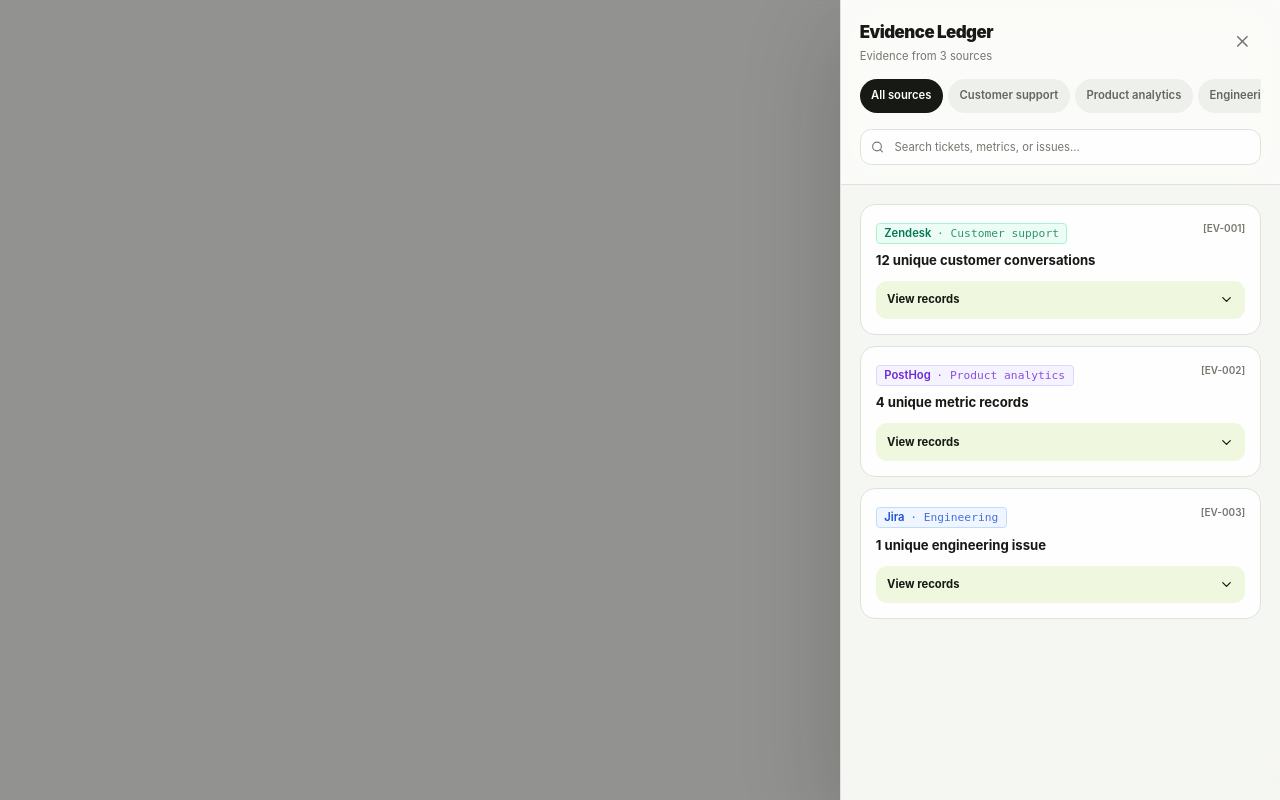
it: Investigation Workspace Components › EvidenceLedgerDrawer › expands source summaries and searches the underlying audit records
Click the button "View records" below "12 unique customer conversations": {"x": 923, "y": 299} x1=876 y1=281 x2=1245 y2=319
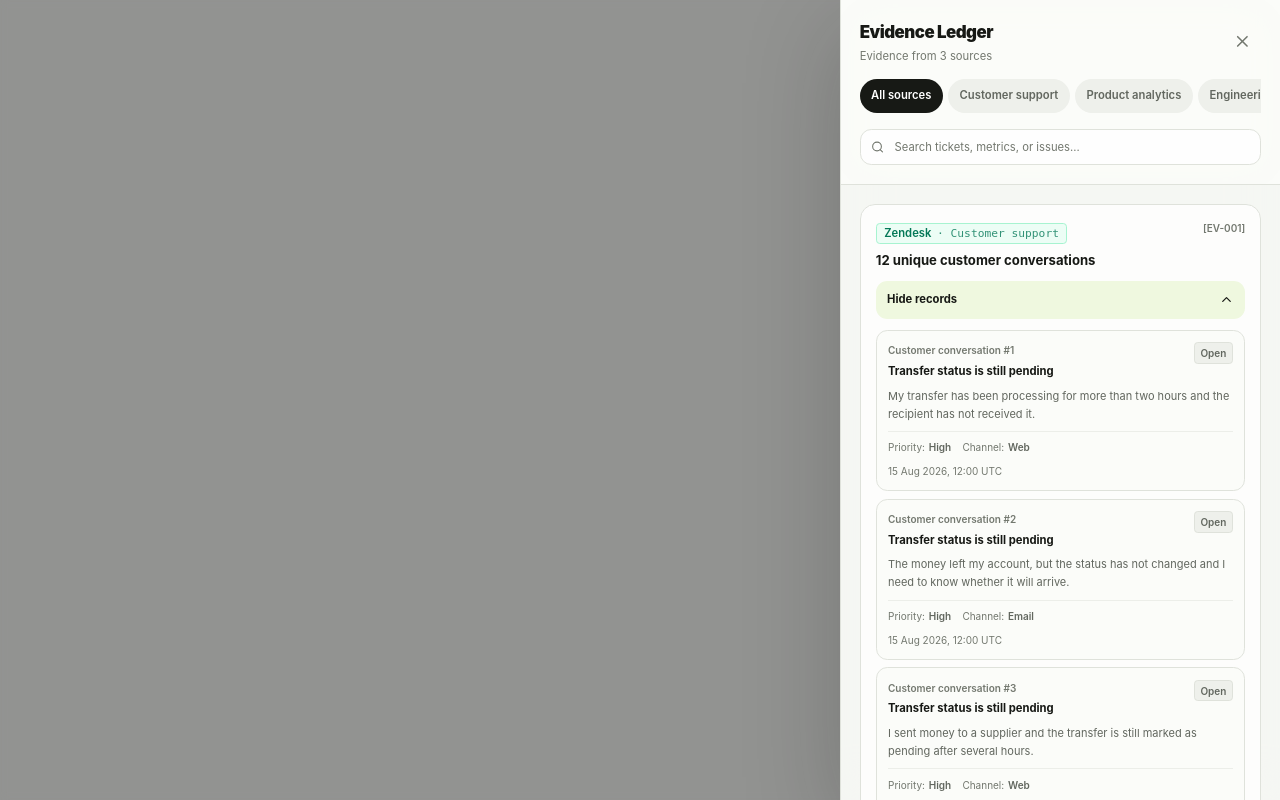
Check: the text "Customer conversation #1" is shown, box x1=888 y1=344 x2=1014 y2=356
In the search field with placeholder "Search tickets, metrics, or issues…": {"x": 1061, "y": 147} x1=860 y1=129 x2=1261 y2=165, type "Customer conversation #6"
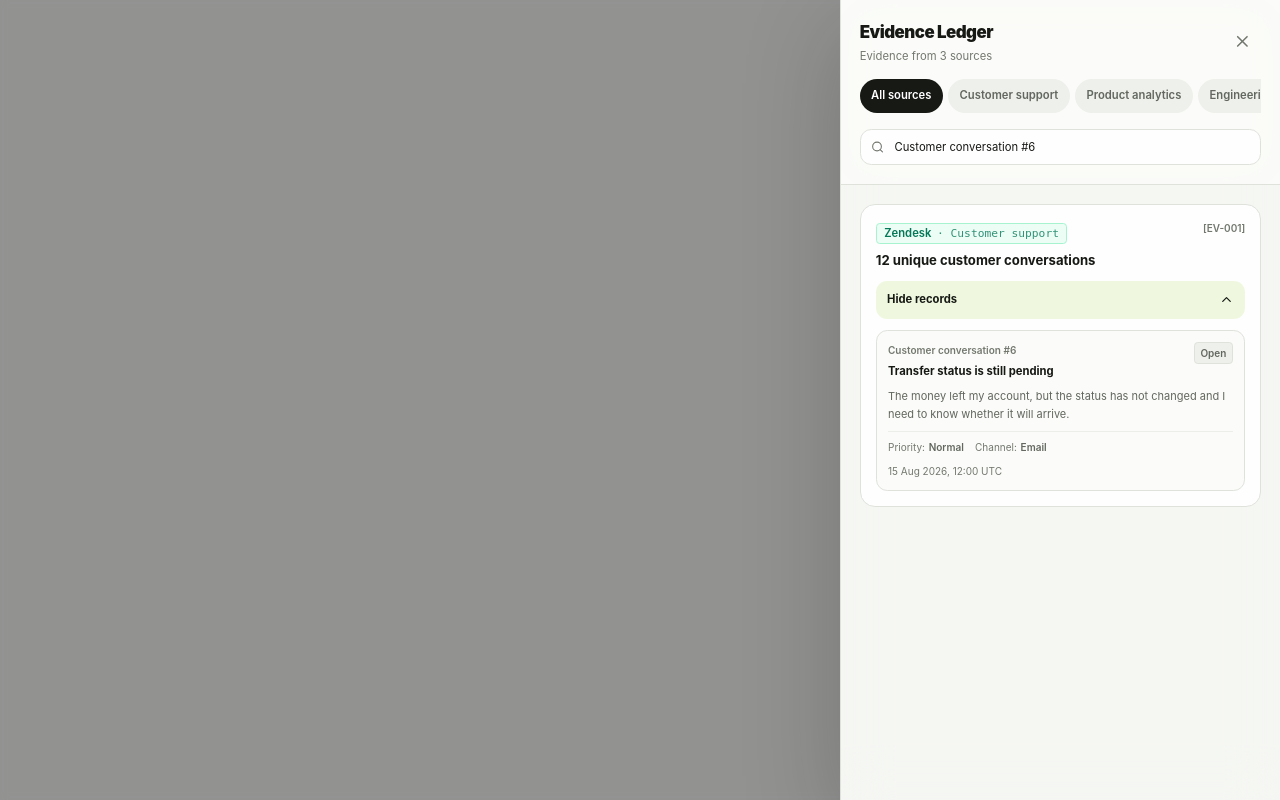
Check: the text "[EV-002]" is not shown
Check: the text "Customer conversation #6" is shown, box x1=888 y1=344 x2=1016 y2=356
Check: the text "Customer conversation #1" is gone
